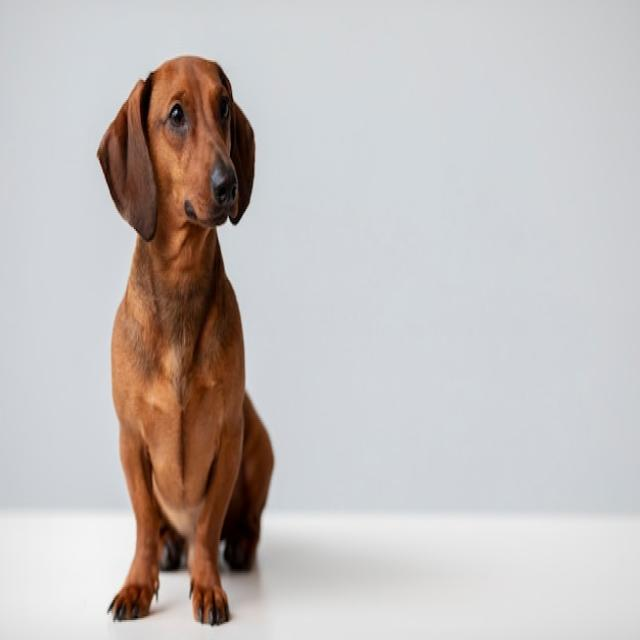Dog: (96, 55, 273, 625)
